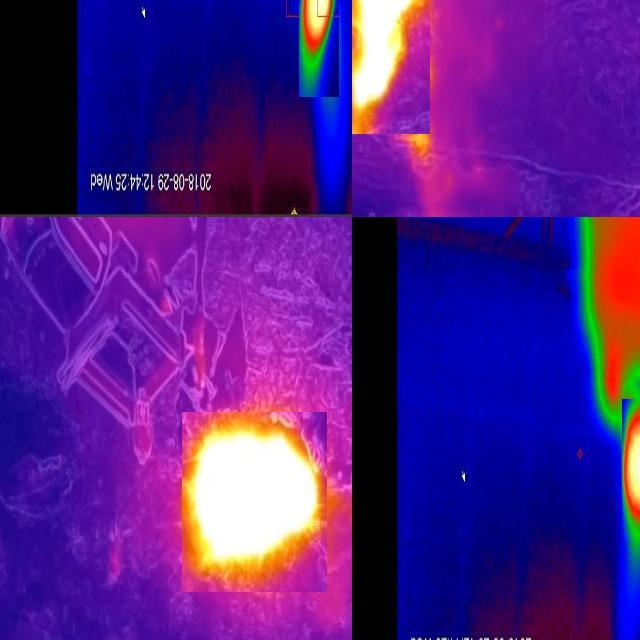fire: (183, 413, 328, 593), (353, 1, 431, 135), (300, 1, 340, 98), (623, 400, 640, 542)
